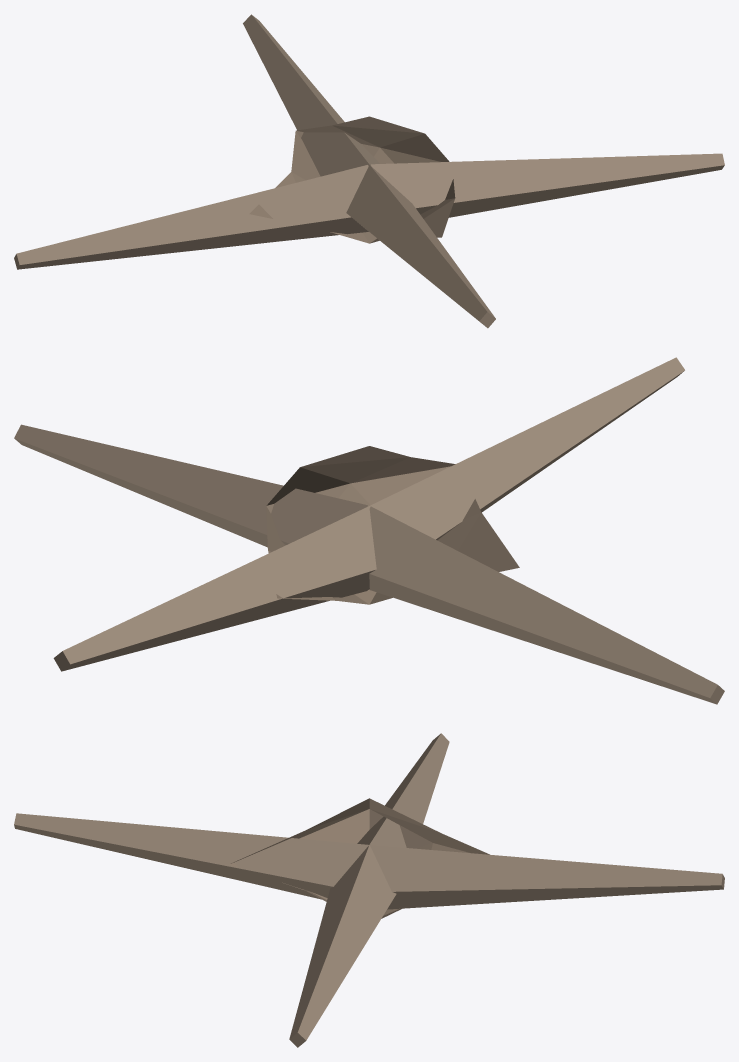
3 views of the same model, one above another, from view 1: azimuth 30°, elevation 25°; view 2: azimuth 150°, elevation 25°; view 3: azimuth 270°, elevation 25° (orthographic). The views are drawn at different scales.
Visible parts, largest first — view 1: lod0; view 2: lod0; view 3: lod0.
Part boxes in pixels (<box>): lod0: <box>14,14,724,328</box>; lod0: <box>14,357,724,704</box>; lod0: <box>14,733,724,1047</box>.
Size of what is drawn, in the model's own units: 0.9848 by 0.1887 by 0.9848.
